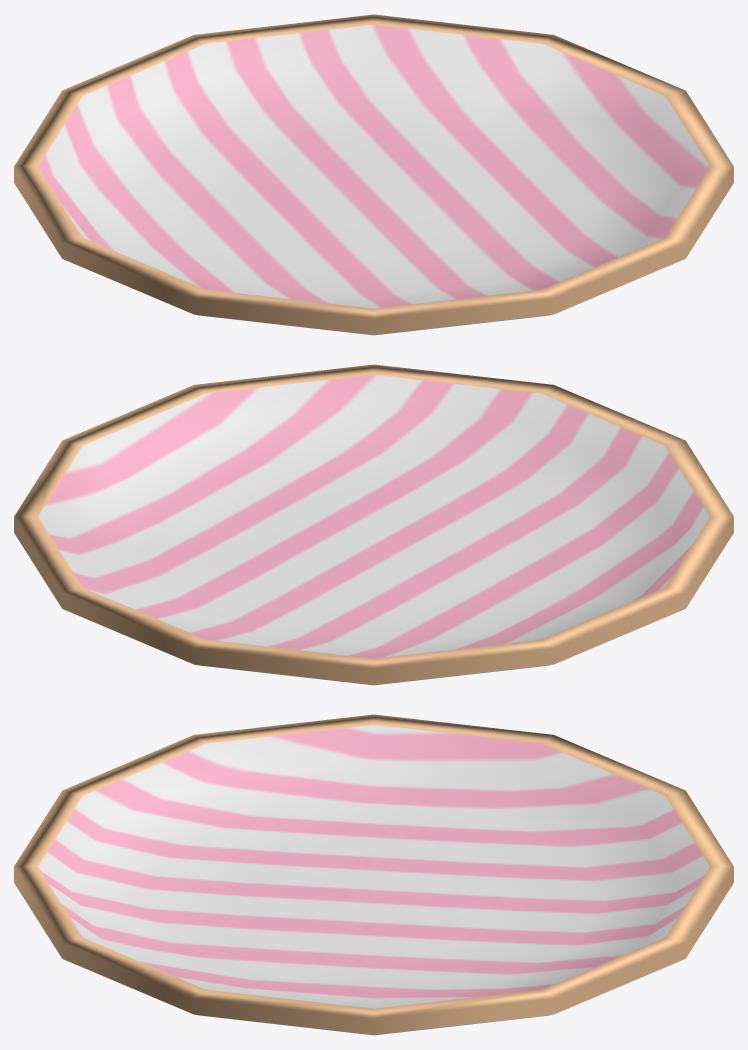
The model's file is PR_plateStriped_01.fbx.
The picture shows the model from 3 angles, top to bottom: view 1: azimuth 30°, elevation 25°; view 2: azimuth 150°, elevation 25°; view 3: azimuth 270°, elevation 25°; orthographic projection.
Parts seen in each view (by area): view 1: PR_plateFruit_02; view 2: PR_plateFruit_02; view 3: PR_plateFruit_02.
Boxes of the visible parts, <box> form: PR_plateFruit_02: <box>14,14,733,335</box>; PR_plateFruit_02: <box>14,364,733,685</box>; PR_plateFruit_02: <box>14,714,733,1035</box>.
Size of the model in its own units: 1220 by 125 by 1220.
Materials: 1 (1 with a texture image).
